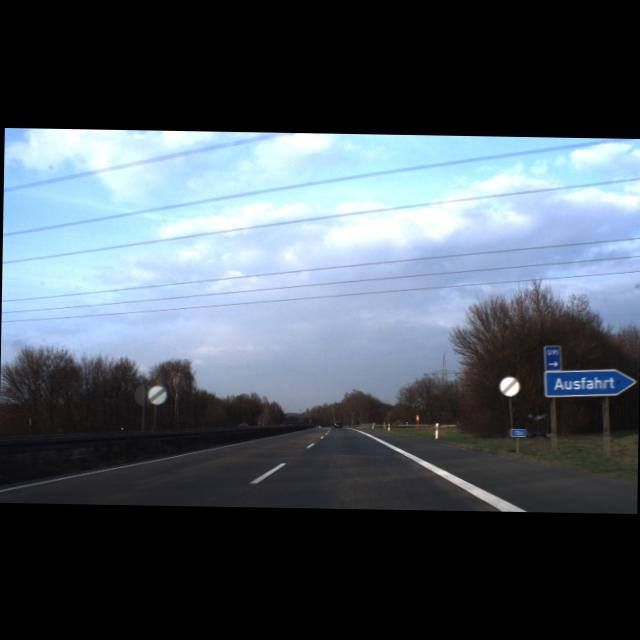other: (498, 375, 520, 396), (146, 384, 166, 404)
